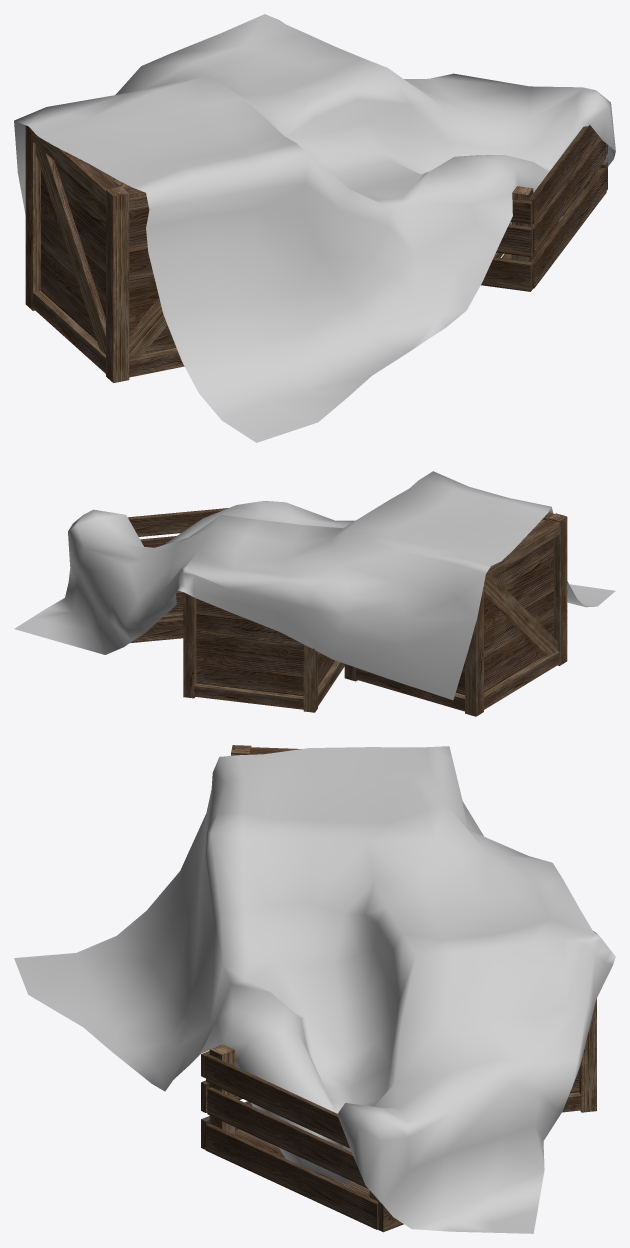
File: storage_box_set_02.fbx
The picture shows the model from 3 angles, top to bottom: view 1: azimuth 30°, elevation 25°; view 2: azimuth 150°, elevation 25°; view 3: azimuth 270°, elevation 25°; orthographic projection. The views are drawn at different scales.
Parts seen in each view (by area): view 1: storage_box_set_02; view 2: storage_box_set_02; view 3: storage_box_set_02.
Boxes of the visible parts, box(x1,y1,x2,y2) form: storage_box_set_02: box(14, 14, 615, 442); storage_box_set_02: box(14, 471, 615, 716); storage_box_set_02: box(14, 745, 615, 1233).
Bounding box in the file's own units: 236 × 76.26 × 203.
